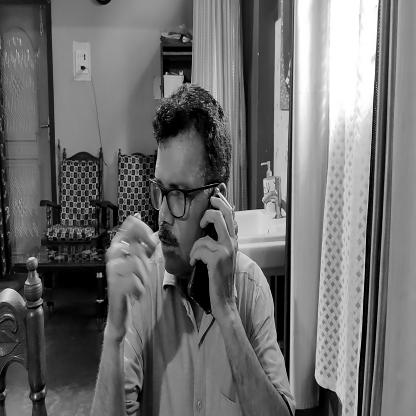Distracted: (158, 100, 207, 296)
